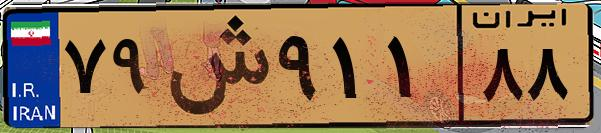1: (385, 28, 445, 110), (330, 28, 385, 110)
7: (57, 26, 110, 100)
8: (475, 38, 525, 113), (525, 38, 570, 115)
9: (270, 28, 330, 110), (110, 28, 158, 98)
ش: (158, 12, 270, 120)
